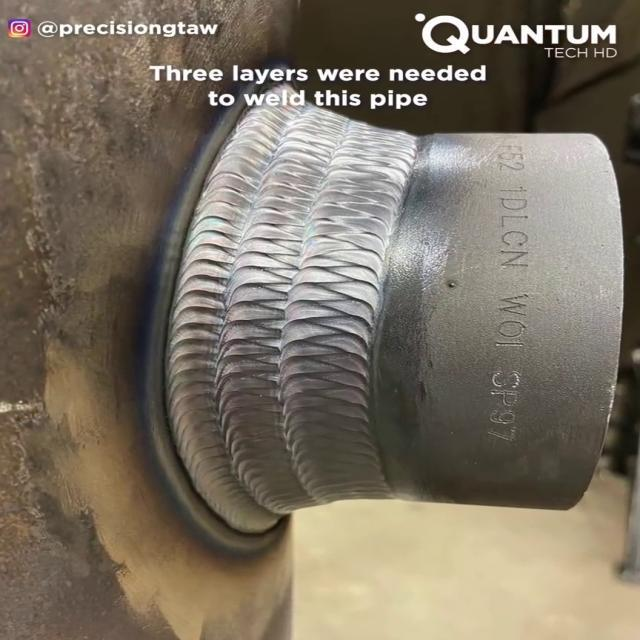Good Welding: (166, 105, 417, 531)
